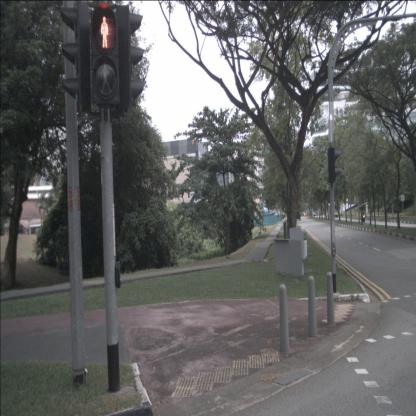vehicle-car: (332, 210, 338, 218)
vehicle-motorcycle: (361, 209, 365, 224)
